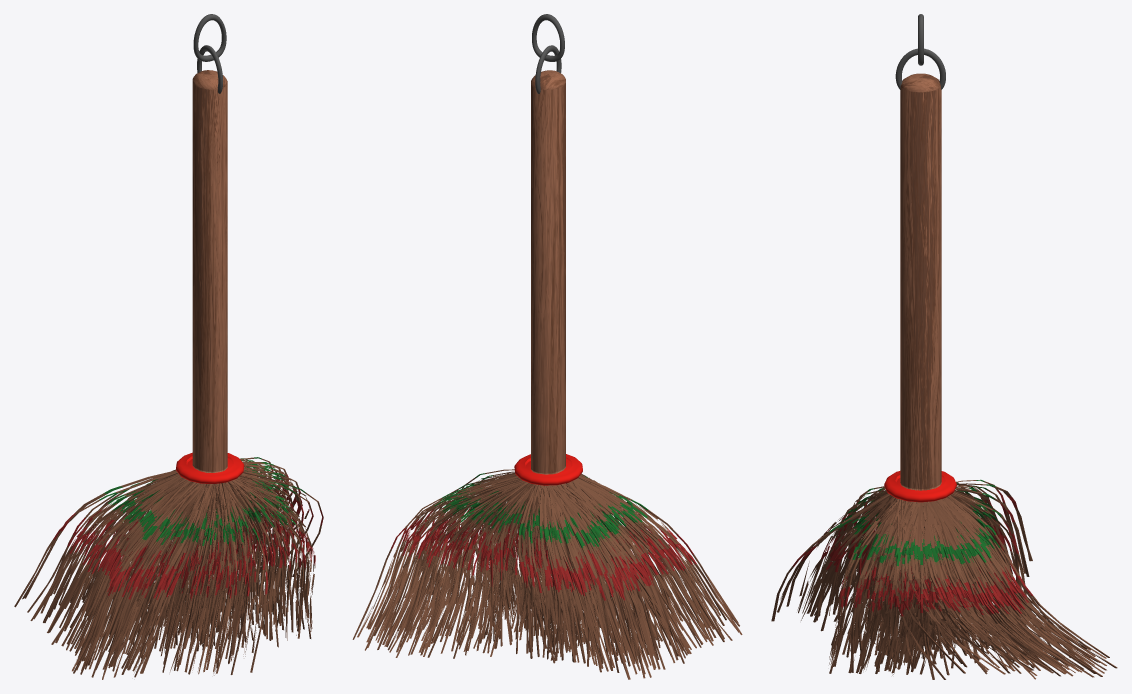
Rendered from broomfinal.glb.
The picture shows the model from 3 angles, left to right: view 1: azimuth 30°, elevation 25°; view 2: azimuth 150°, elevation 25°; view 3: azimuth 270°, elevation 25°; orthographic projection. The views are drawn at different scales.
Visible parts, largest first — view 1: Mesh.001_Material_0, Cylinder, Mesh.001_Material_0.001, BezierCircle; view 2: Mesh.001_Material_0, Cylinder, Mesh.001_Material_0.001, BezierCircle; view 3: Mesh.001_Material_0, Cylinder, BezierCircle, Mesh.001_Material_0.001.
Boxes of the visible parts, <box> form: Mesh.001_Material_0: <box>14,457,323,679</box>; Cylinder: <box>176,70,244,483</box>; Mesh.001_Material_0.001: <box>149,494,255,639</box>; BezierCircle: <box>193,14,226,93</box>; Mesh.001_Material_0: <box>352,469,742,679</box>; Cylinder: <box>514,70,582,485</box>; Mesh.001_Material_0.001: <box>479,499,623,629</box>; BezierCircle: <box>532,14,564,93</box>; Mesh.001_Material_0: <box>771,479,1117,679</box>; Cylinder: <box>884,73,956,502</box>; BezierCircle: <box>895,14,945,89</box>; Mesh.001_Material_0.001: <box>878,525,979,657</box>.
Size of the model in its own units: 0.7571 by 1.6 by 0.7882.
4 materials, 2 textured.
